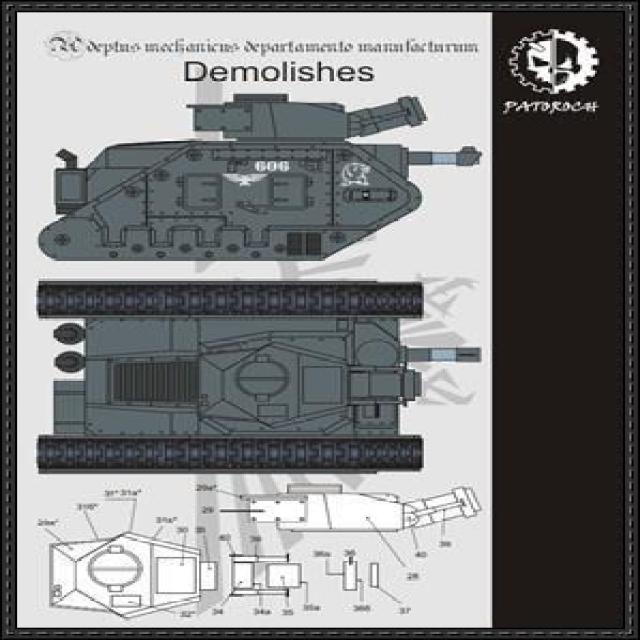Tanks: (28, 257, 464, 534), (40, 32, 482, 260)
